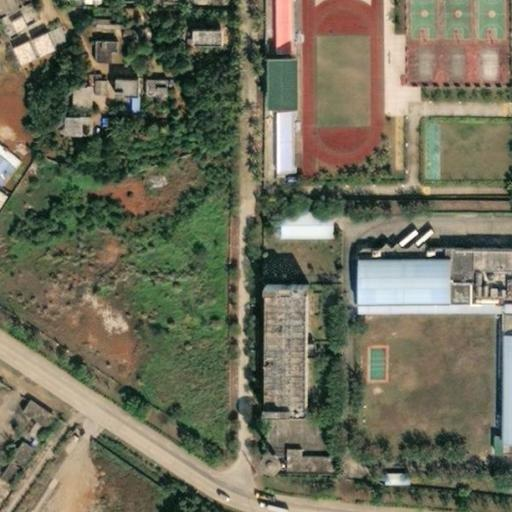building: (258, 283, 300, 417), (348, 255, 442, 300), (442, 255, 512, 300), (83, 449, 134, 492), (493, 330, 512, 437), (348, 300, 492, 313), (273, 206, 324, 241), (259, 50, 288, 101), (419, 116, 441, 179), (267, 112, 286, 176), (125, 474, 160, 508), (0, 6, 32, 42), (277, 450, 324, 473), (12, 401, 49, 430), (4, 41, 30, 66), (21, 32, 46, 58), (1, 444, 25, 471), (56, 108, 83, 131), (65, 78, 84, 108), (86, 41, 109, 63), (136, 79, 159, 100), (39, 29, 60, 51), (111, 26, 141, 41), (107, 74, 130, 93), (1, 16, 21, 37), (186, 36, 213, 50), (145, 497, 165, 512), (376, 474, 399, 486), (20, 422, 35, 439), (88, 22, 111, 32), (84, 82, 98, 98), (485, 435, 493, 455), (124, 93, 130, 112), (185, 0, 198, 8), (77, 0, 92, 5), (150, 0, 179, 2), (75, 142, 82, 150), (93, 120, 98, 131)
